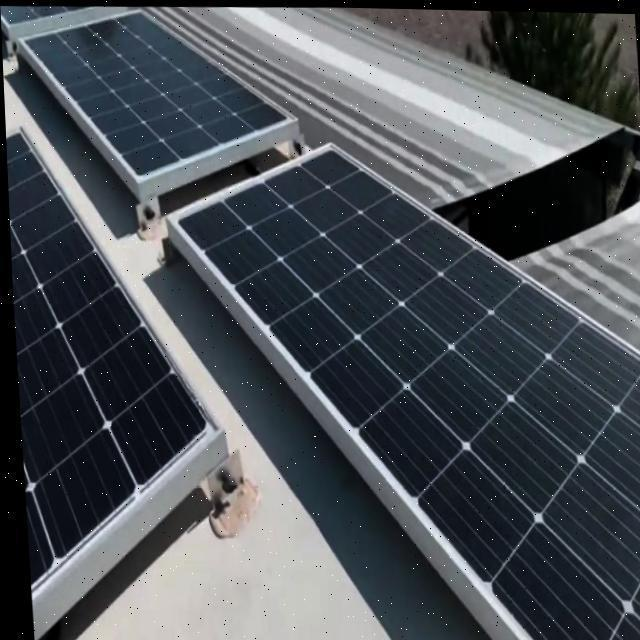Normal Solar Panel: (165, 131, 640, 640), (4, 124, 222, 619), (17, 1, 296, 187), (0, 3, 124, 27)
